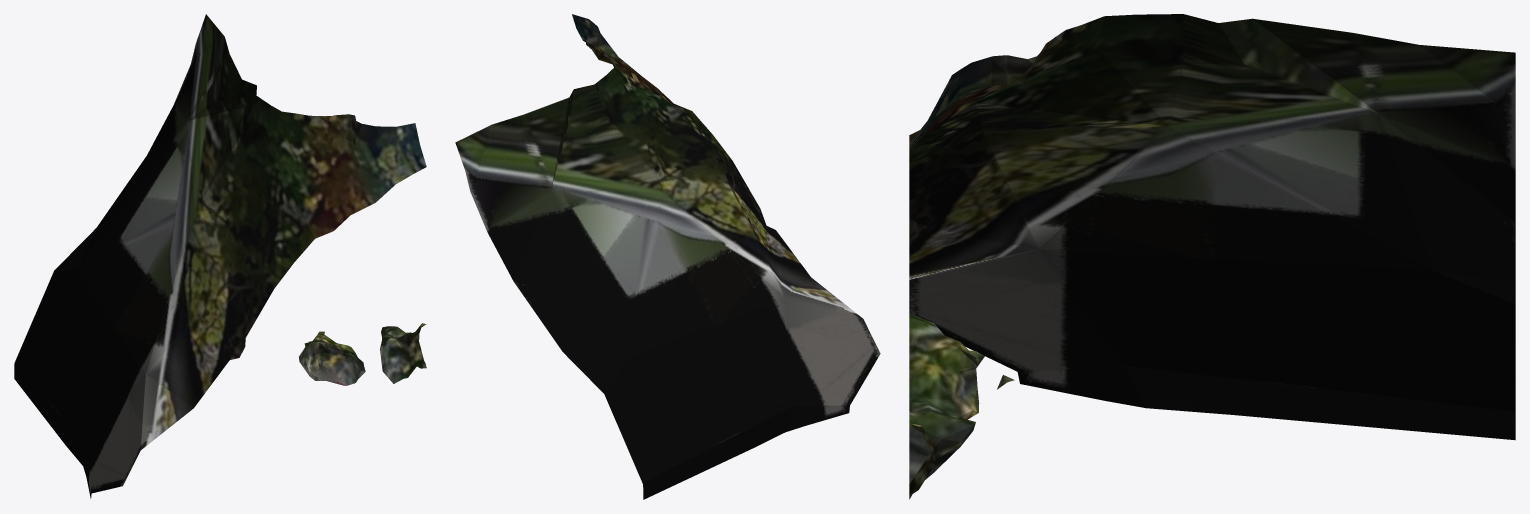
3 views of the same model, side by side, from view 1: azimuth 30°, elevation 25°; view 2: azimuth 150°, elevation 25°; view 3: azimuth 270°, elevation 25° (orthographic). The views are drawn at different scales.
Size of the model in its own units: 3.35 by 3.35 by 3.35.
4 materials, 4 textured.
